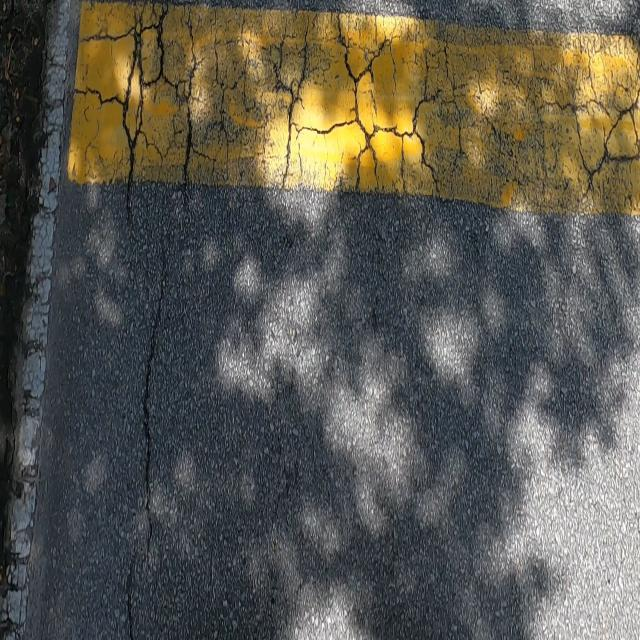Retak-Buaya: (79, 3, 638, 216)
Retak-Memanjang: (136, 248, 175, 545), (121, 546, 138, 640)
